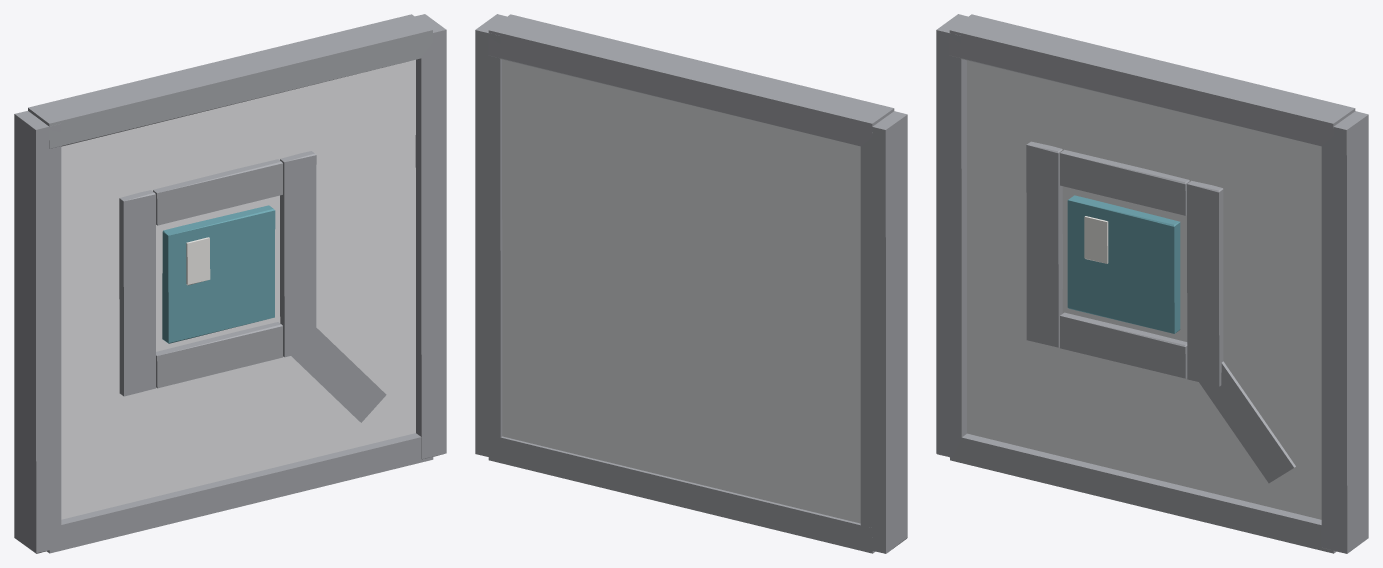
File: prop_icon_browse_01.glb
3 views of the same model, side by side, from view 1: azimuth 30°, elevation 25°; view 2: azimuth 150°, elevation 25°; view 3: azimuth 330°, elevation 25° (orthographic).
Visible parts, largest first — view 1: prop_icon_browse_01; view 2: prop_icon_browse_01; view 3: prop_icon_browse_01.
Part boxes in pixels (x1,y1,x2,y2): prop_icon_browse_01: (14, 14, 446, 553); prop_icon_browse_01: (475, 14, 907, 553); prop_icon_browse_01: (936, 14, 1368, 553).
Size of the model in its own units: 0.32 by 0.32 by 0.032.
